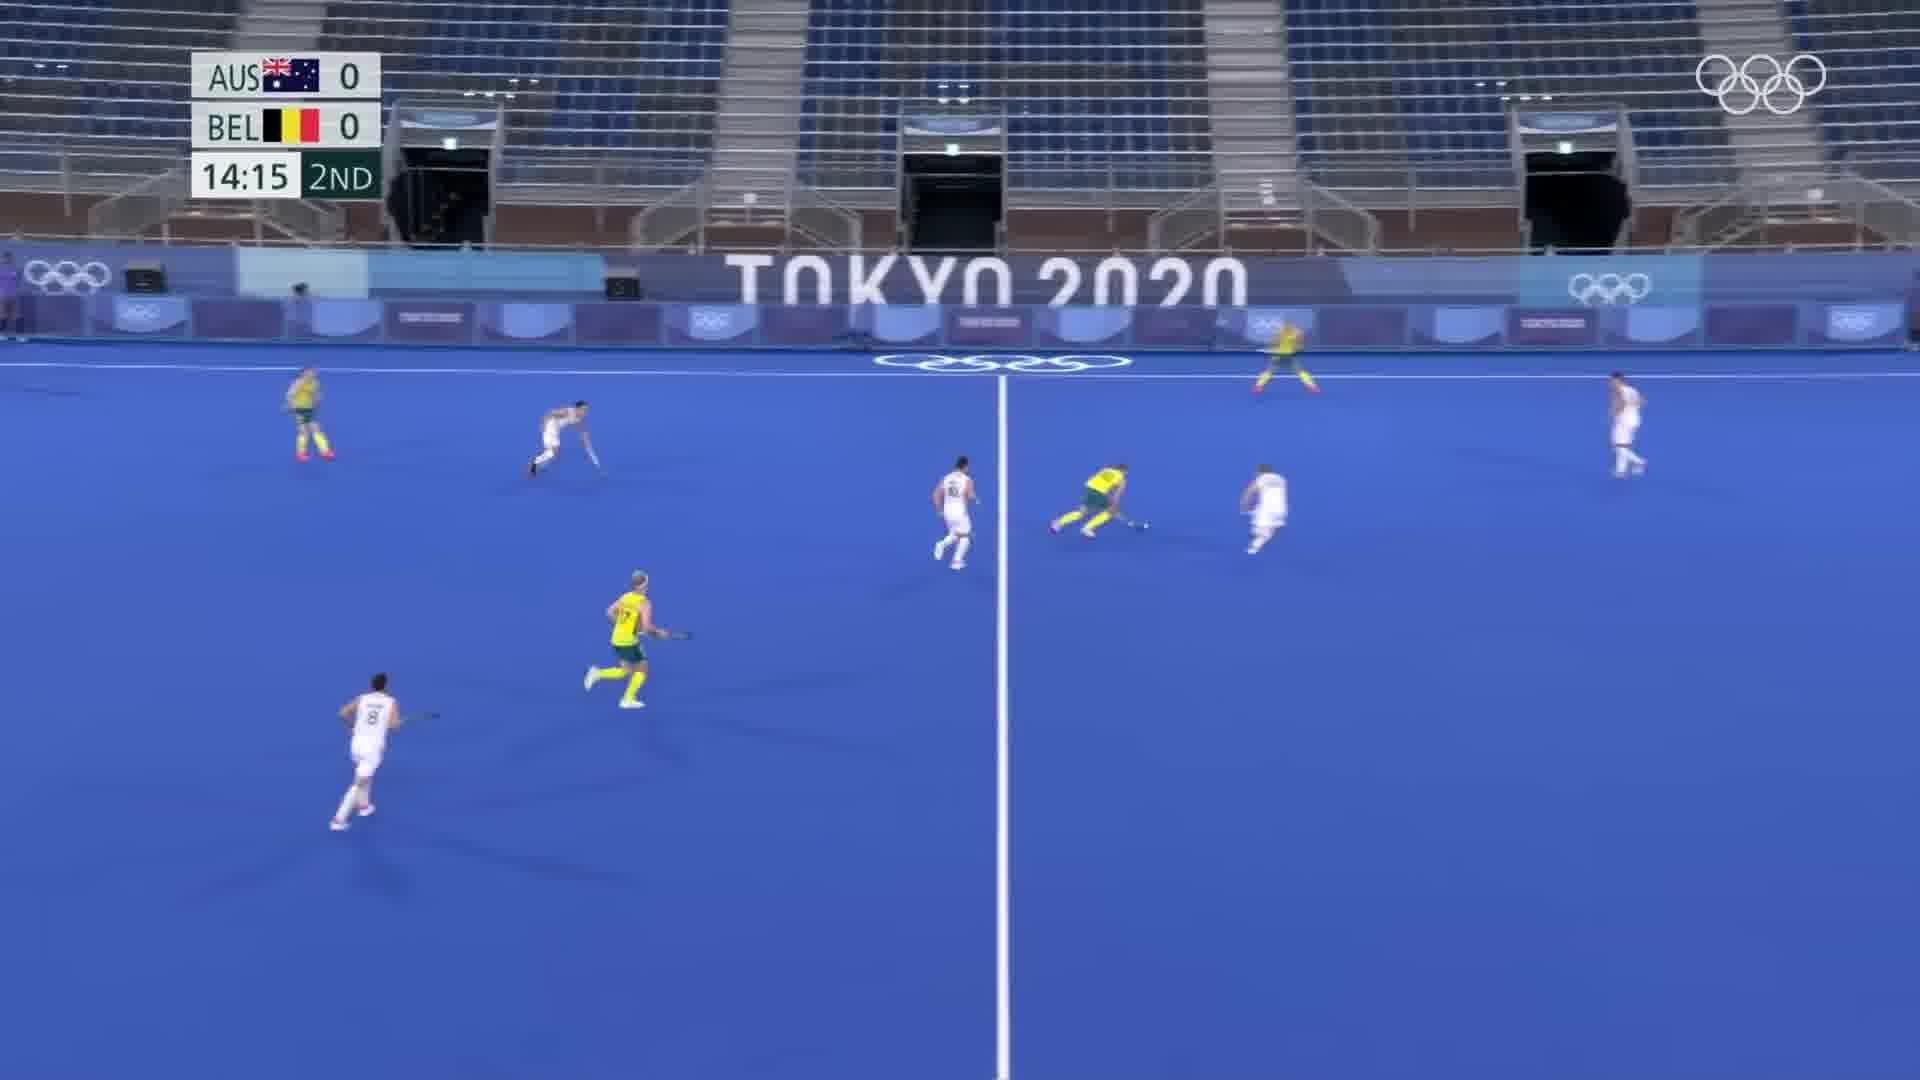ball: (1139, 517, 1158, 534)
